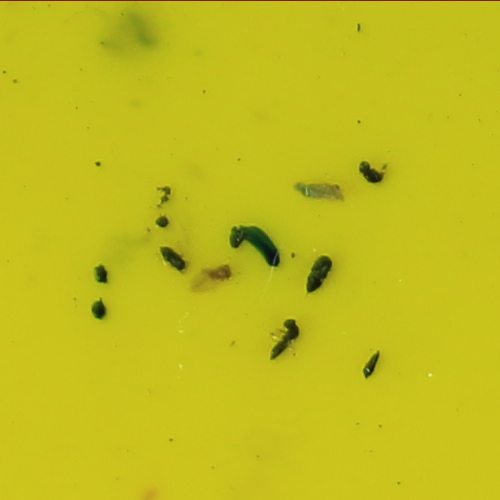Platyobria: (191, 259, 230, 289)
Psyllaephagus: (158, 241, 187, 273)
